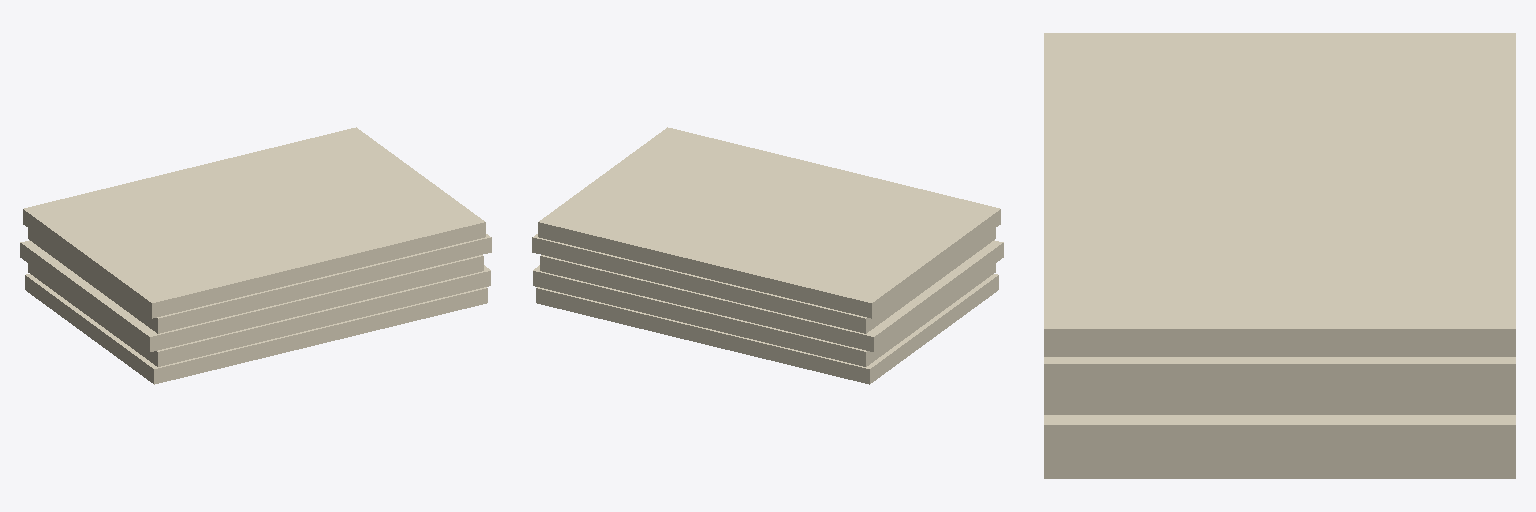
robot.urdf — nova_environment_object_0300:
<?xml version="1.0" encoding="utf-8"?>
<!-- Nova movable environment body for the bundled PyBullet launcher. SI metres/kg/radians. Loaded at its body origin; hinge/slider bodies use a fixed world_anchor base with one passive joint. Inertia is about COM. -->
<robot name="nova_environment_object_0300">
  <link name="body">
    <inertial>
      <origin xyz="0 0 0.015" rpy="0 0 0" />
      <mass value="0.06" />
      <inertia ixx="4.74355556e-05" iyy="9.698e-05" izz="0.000135415556" ixy="0" ixz="0" iyz="0" />
    </inertial>
    <visual>
      <origin xyz="0 0 0" rpy="0 0 0" />
      <geometry>
        <mesh filename="object_0300.obj" />
      </geometry>
      <material name="surface">
        <color rgba="0.91 0.88 0.8 1" />
      </material>
    </visual>
    <collision>
      <origin xyz="0 0 0" rpy="0 0 0" />
      <geometry>
        <mesh filename="object_0300_collision_00.obj" />
      </geometry>
    </collision>
  </link>
</robot>

--- Render facts (derived) ---
The picture shows the robot from 3 angles, left to right: view 1: azimuth 30°, elevation 25°; view 2: azimuth 150°, elevation 25°; view 3: azimuth 270°, elevation 25°; orthographic projection.
Model nova_environment_object_0300 with 1 links and 0 joints (none), rooted at body, posed every joint at zero.
Visible links, largest first — view 1: body; view 2: body; view 3: body.
Boxes of the visible links, left/top/right/bottom form: body: left=20, top=127, right=491, bottom=384; body: left=532, top=127, right=1003, bottom=384; body: left=1044, top=33, right=1515, bottom=478.
Size in the robot's own frame: 0.129 by 0.0847 by 0.0295 metres.
Meshes: 1 distinct files referenced, 1 mesh visuals loaded (1 OBJ).
